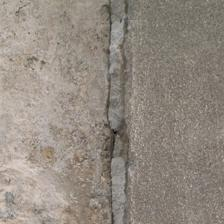Crack: (51, 2, 84, 221)
